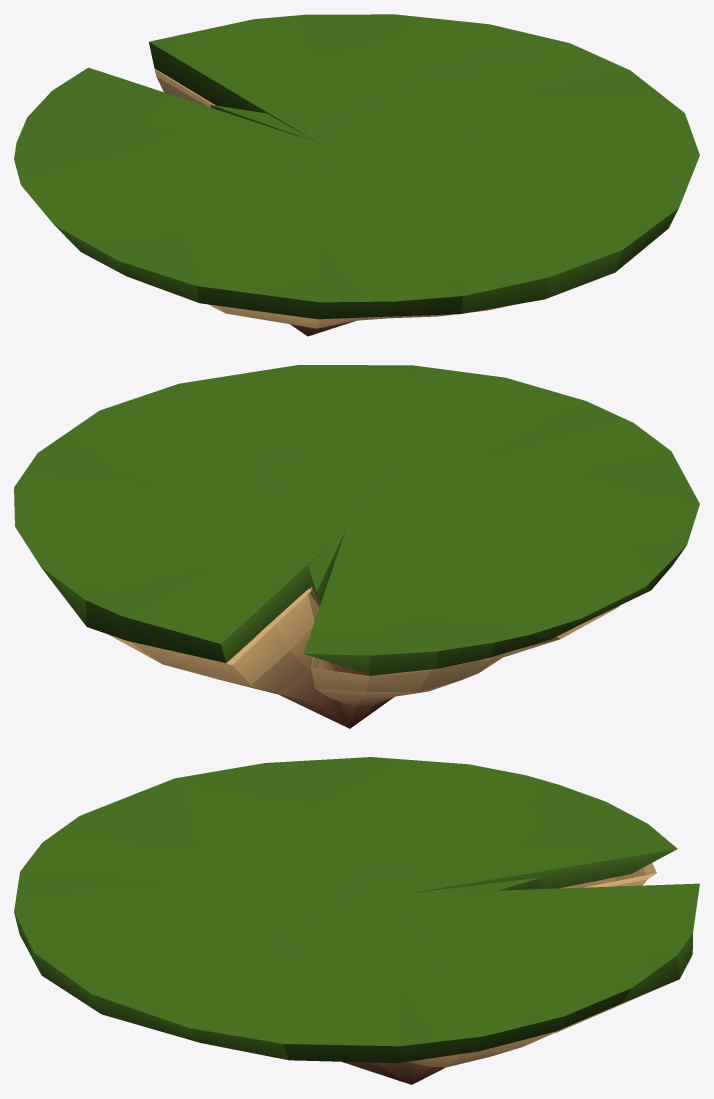
The model's file is flyland.glb.
3 views of the same model, one above another, from view 1: azimuth 30°, elevation 25°; view 2: azimuth 150°, elevation 25°; view 3: azimuth 270°, elevation 25° (orthographic).
Parts seen in each view (by area): view 1: Vert.001, Vert; view 2: Vert.001, Vert; view 3: Vert.001, Vert.
Part boxes in pixels (x1,y1,x2,y2): Vert.001: (14, 14, 699, 319); Vert: (154, 69, 512, 336); Vert.001: (14, 365, 699, 675); Vert: (108, 586, 619, 728); Vert.001: (14, 757, 699, 1063); Vert: (341, 863, 691, 1084).
Size of the model in its own units: 89.52 by 28.12 by 89.78.
2 materials, 2 textured.
